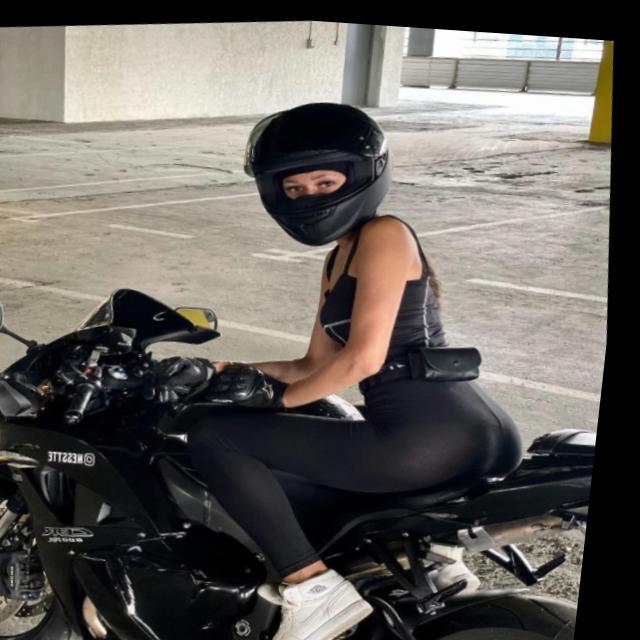helmet: (228, 78, 414, 255)
